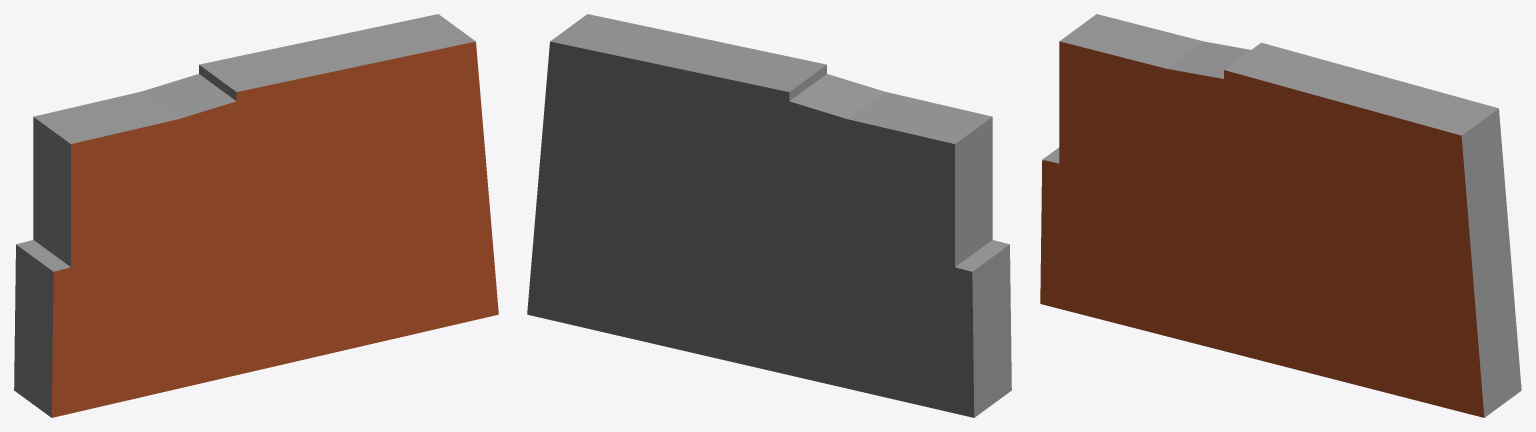
Rendered from construction_4804_assumed_A_Casa_h6m.obj.
The picture shows the model from 3 angles, left to right: view 1: azimuth 30°, elevation 25°; view 2: azimuth 150°, elevation 25°; view 3: azimuth 330°, elevation 25°; orthographic projection.
Visible parts, largest first — view 1: construction_4804_assumed_A_Casa; view 2: construction_4804_assumed_A_Casa; view 3: construction_4804_assumed_A_Casa.
Part boxes in pixels (x1,y1,x2,y2): construction_4804_assumed_A_Casa: [14, 14, 498, 417]; construction_4804_assumed_A_Casa: [527, 14, 1011, 417]; construction_4804_assumed_A_Casa: [1040, 14, 1521, 417].
Size of the model in its own units: 41.2 by 25.22 by 6.
